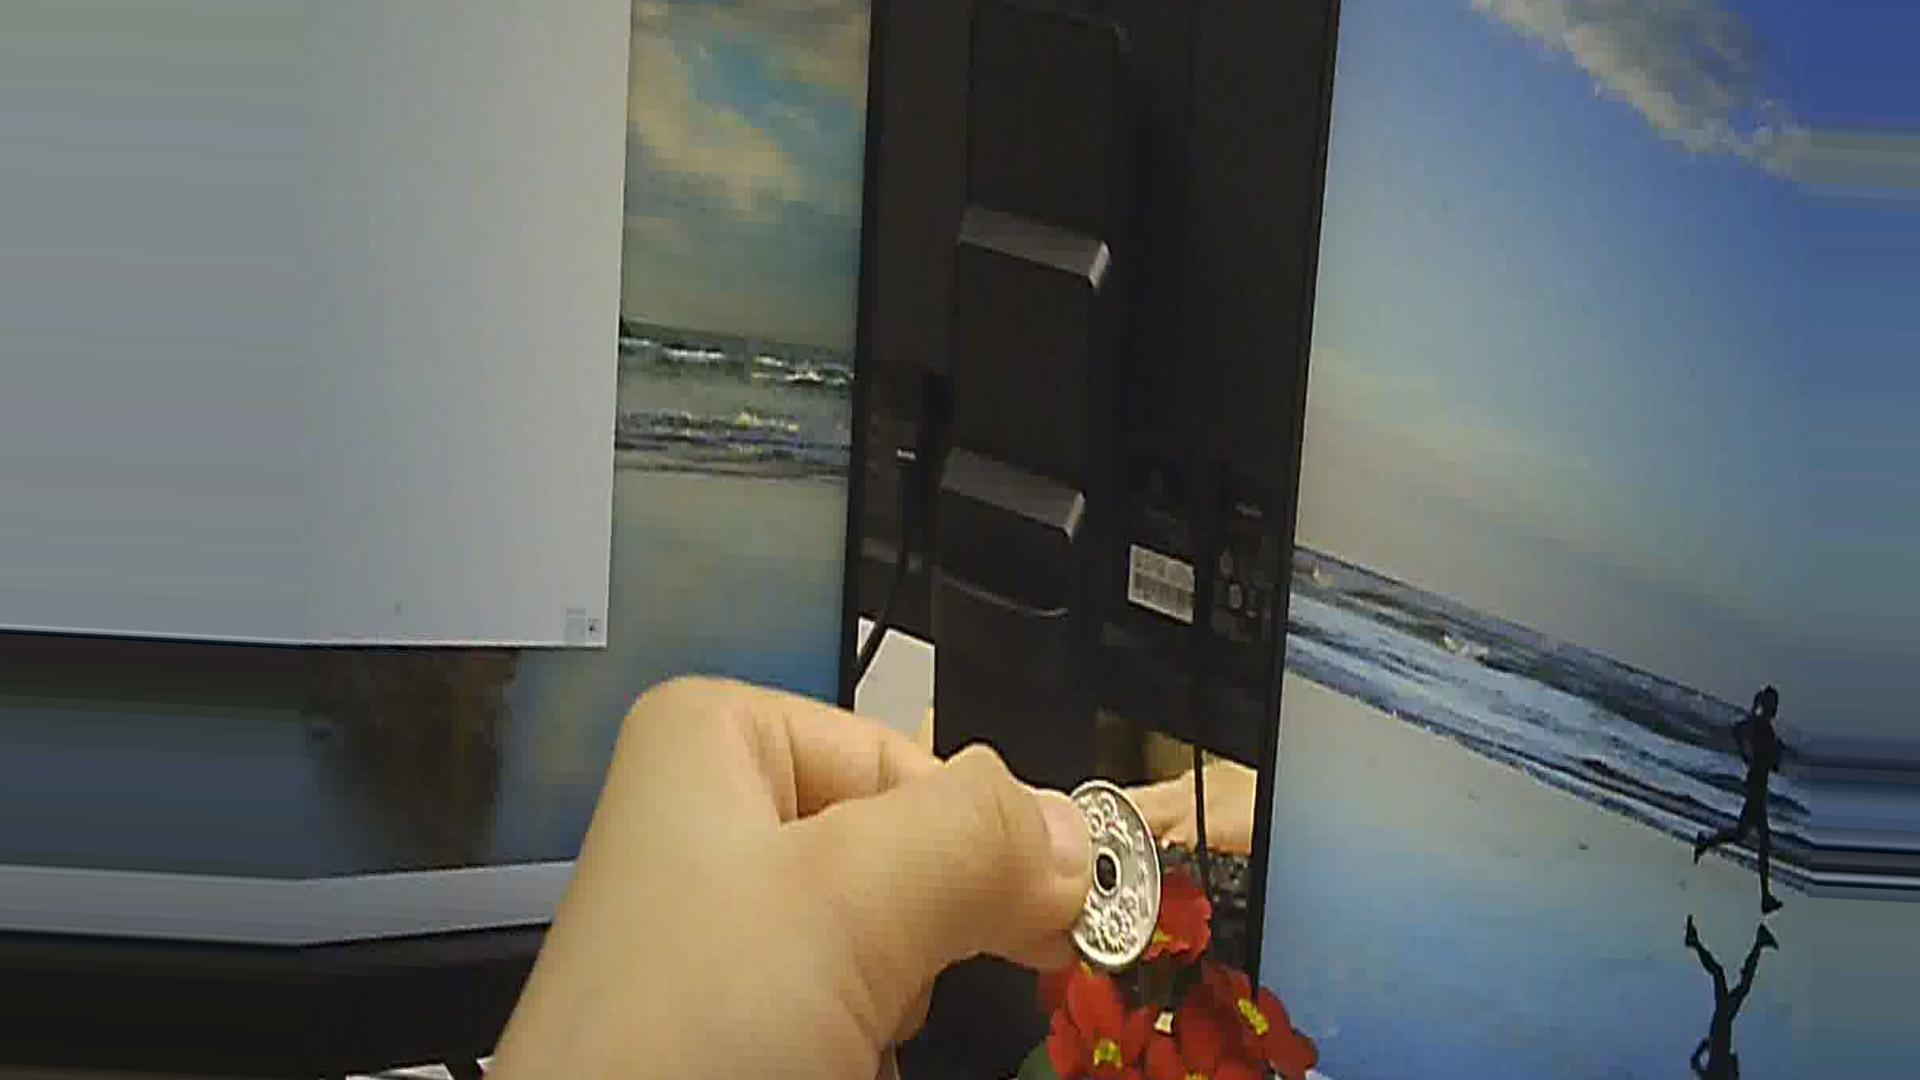50 Yen: (1047, 774, 1182, 971)
